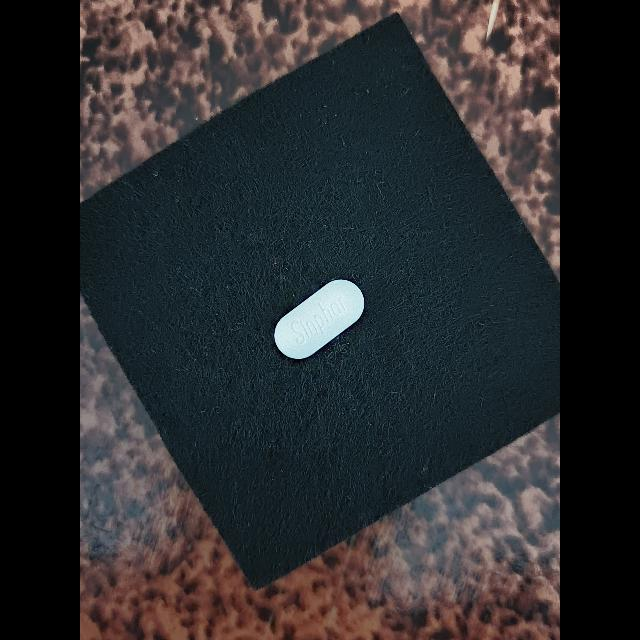Intact Pill: (274, 280, 365, 359)
